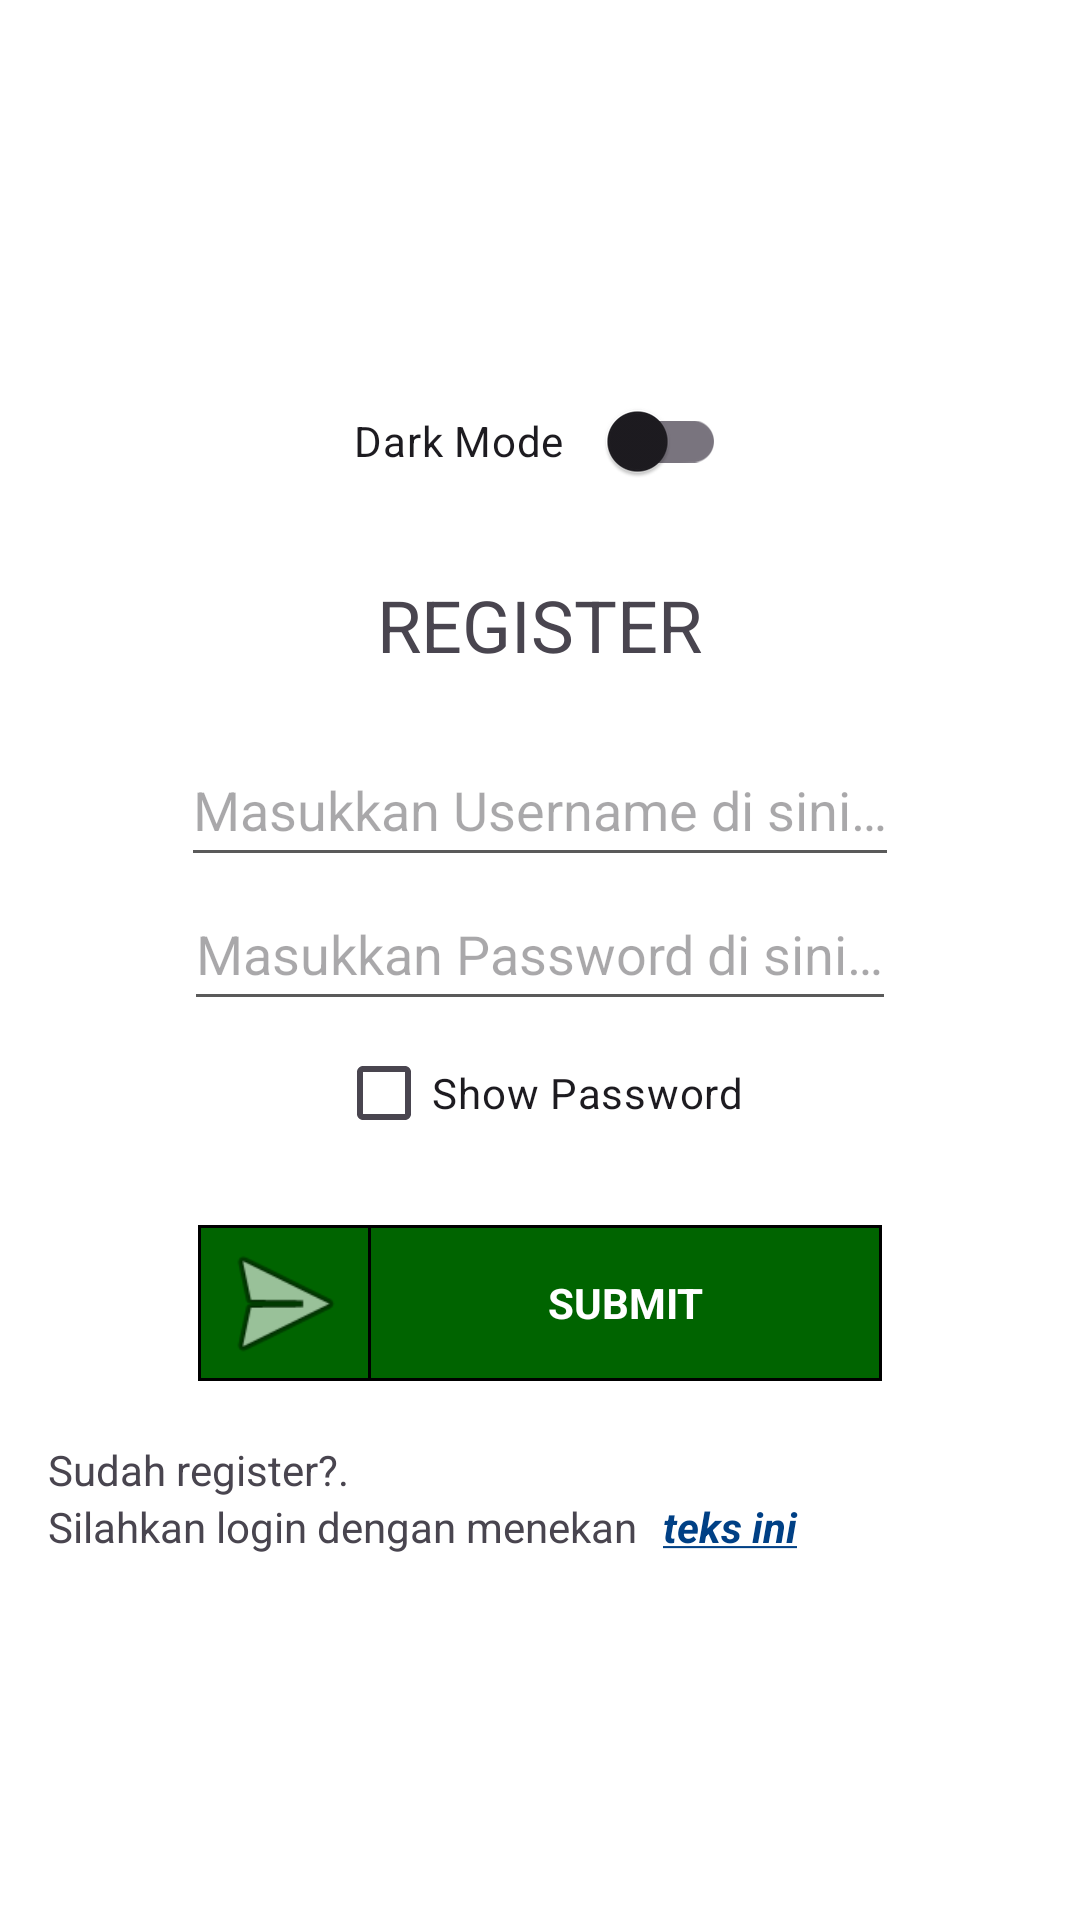

Icons on this 1080w x 1920h Android screen, each with the point to tap as (x=x, y=y):
send: (x=284, y=1303)
